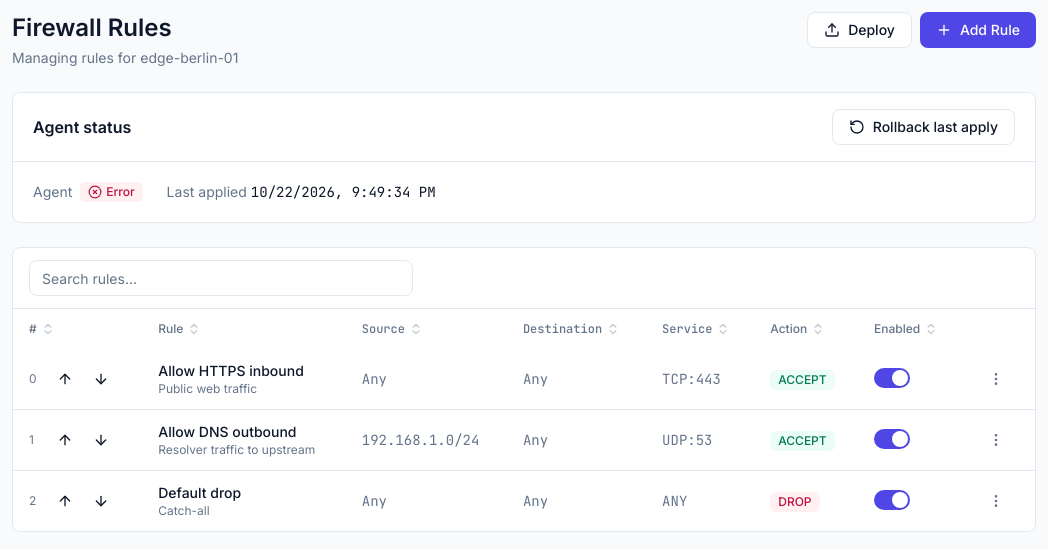
Test case: FirewallRules › table search filters rows
The width and height of the screenshot is (1048, 549).
Expected: the text "Allow HTTPS inbound" is shown, [158,362,304,379]
Expected: the text "Allow DNS outbound" is shown, [158,423,297,440]
// Type in search
Type "DNS" into the field labelled "Search rules…".
click(221, 278); type("DNS")  # box [29,260,413,296]
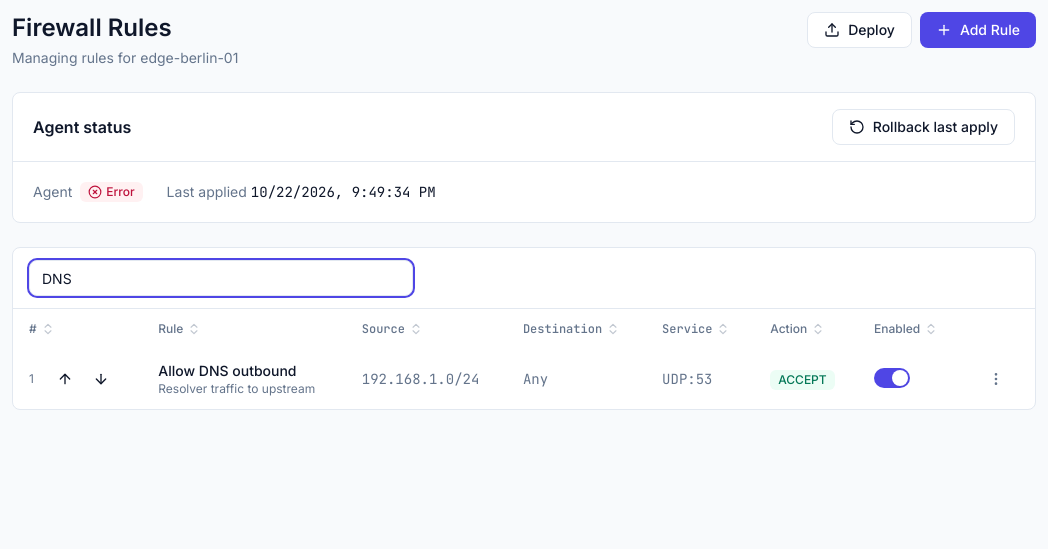
Expected: the text "Allow DNS outbound" is shown, [158,362,297,379]
Expected: the text "Allow HTTPS inbound" is gone
